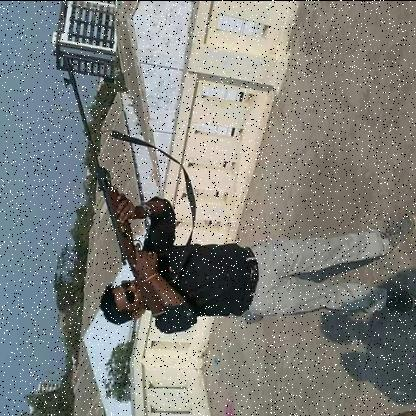rifle: (62, 53, 168, 318)
